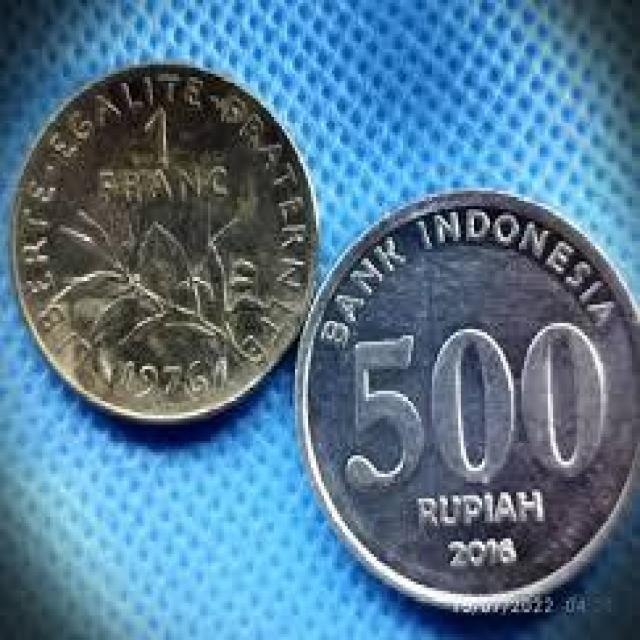500-kuning: (297, 193, 640, 613)
